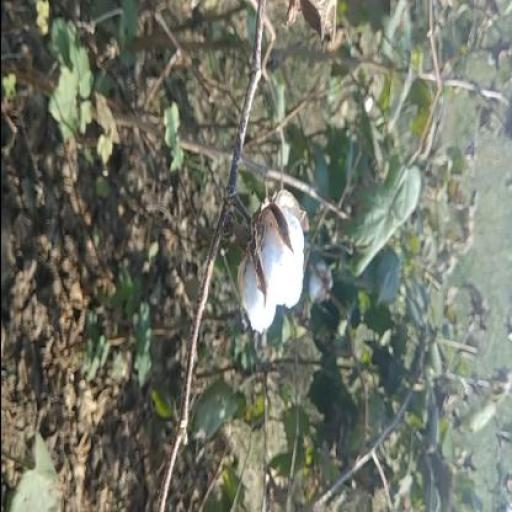cotton_ready: (209, 180, 320, 334)
